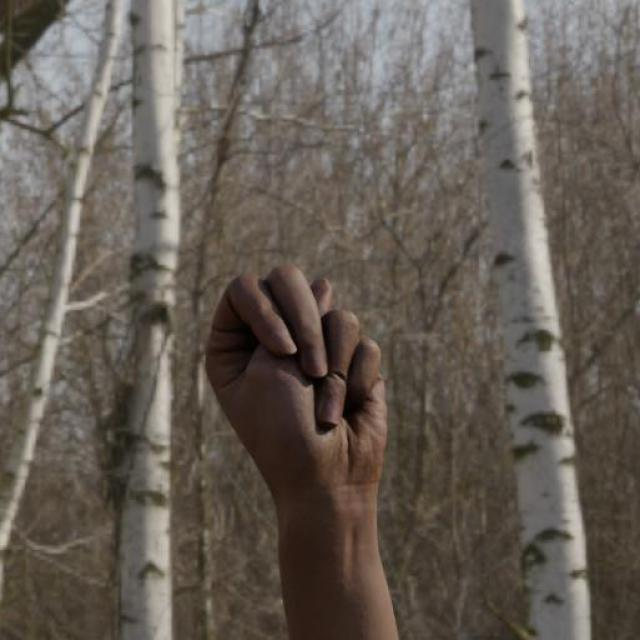N: (198, 260, 400, 538)
